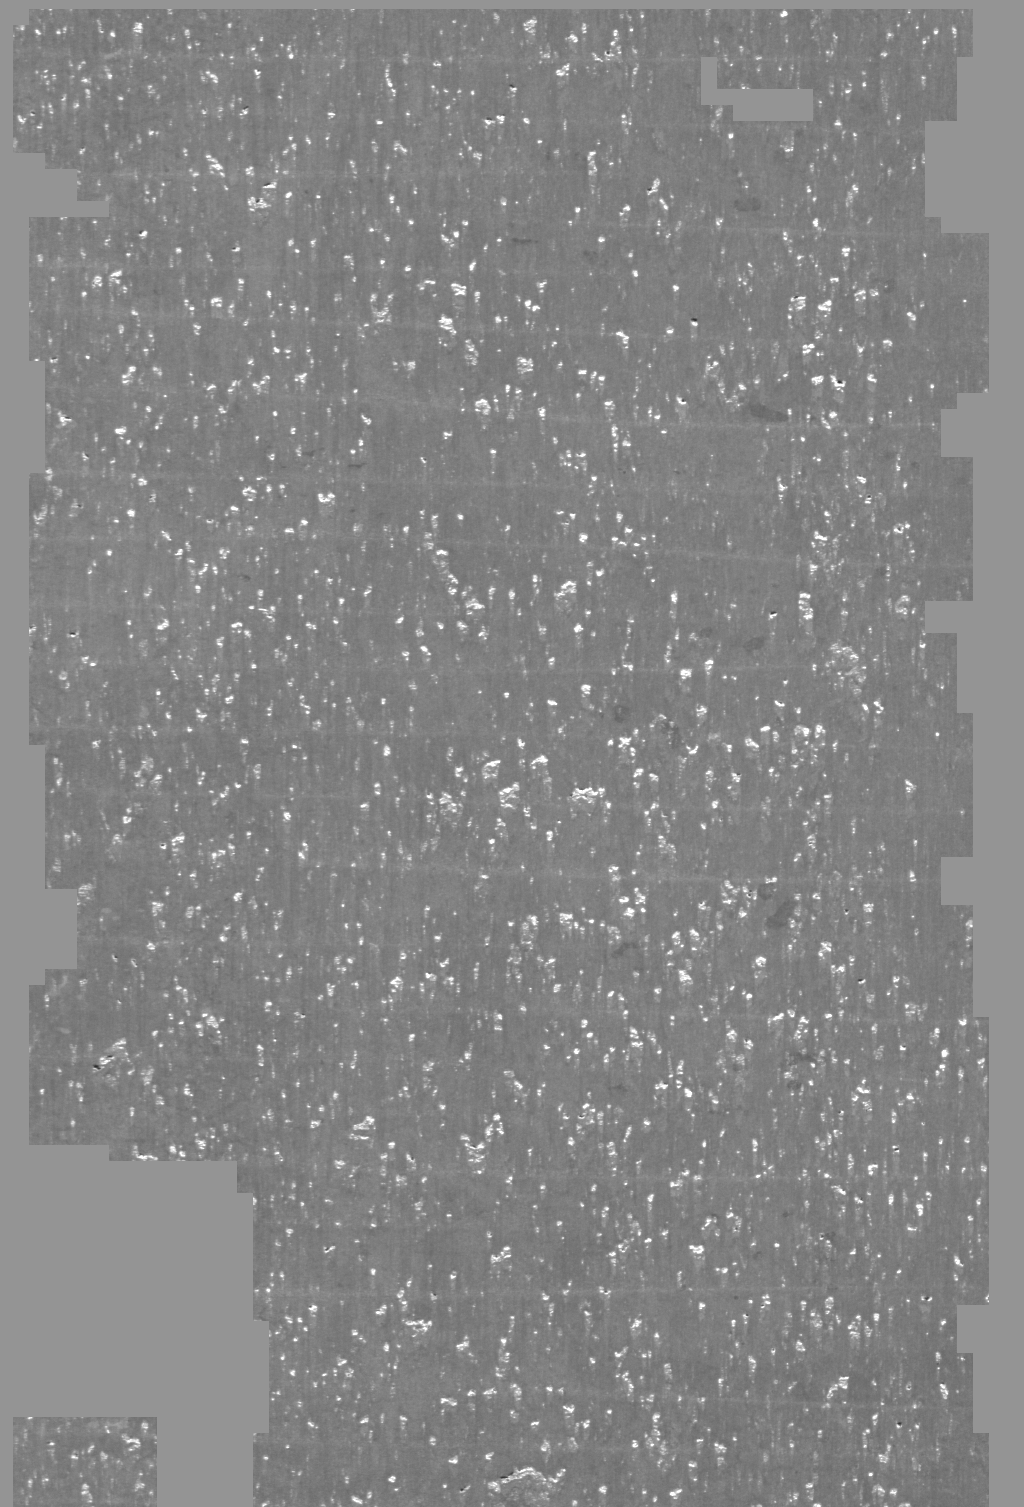oxl: (35, 10, 989, 1497)
